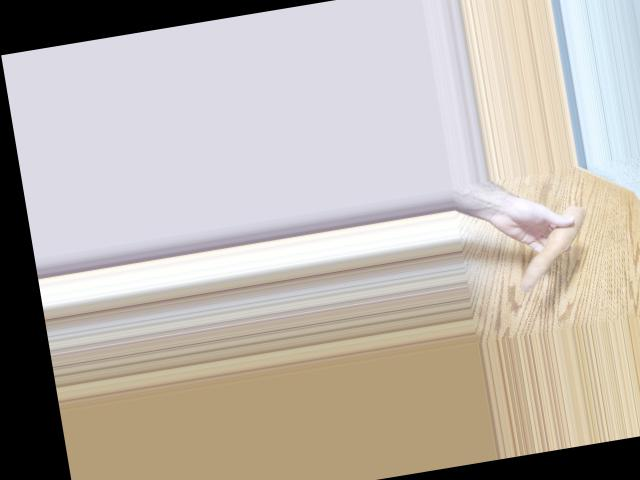sweet_potato: (509, 203, 593, 291)
